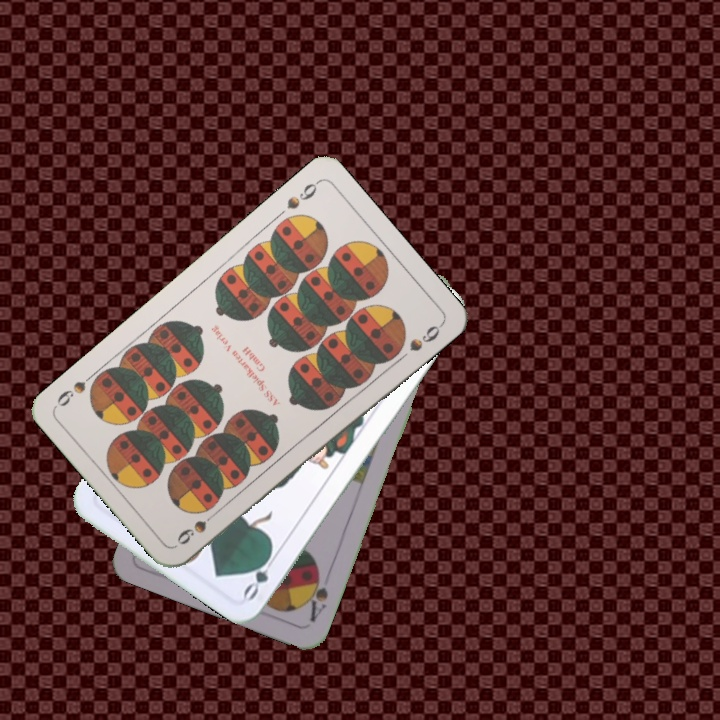GO: (239, 546, 281, 603)
S9: (172, 505, 222, 548), (282, 176, 322, 212)
SA: (301, 565, 331, 625)
